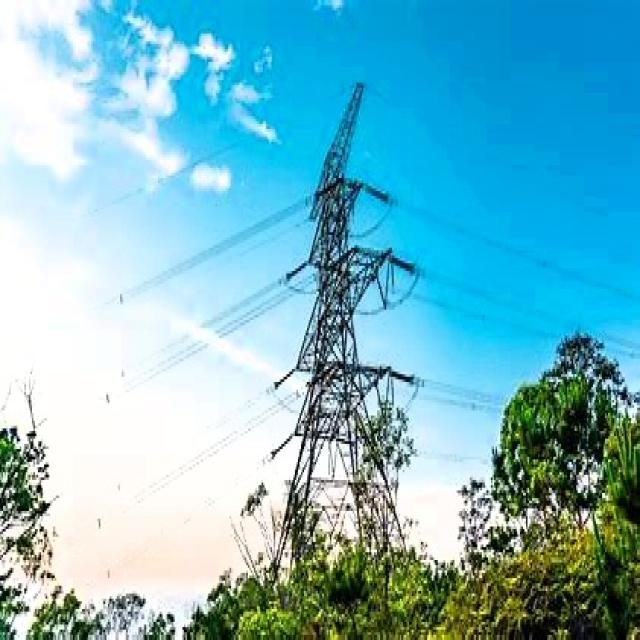utility poles: (468, 292, 618, 524), (342, 373, 426, 557)
